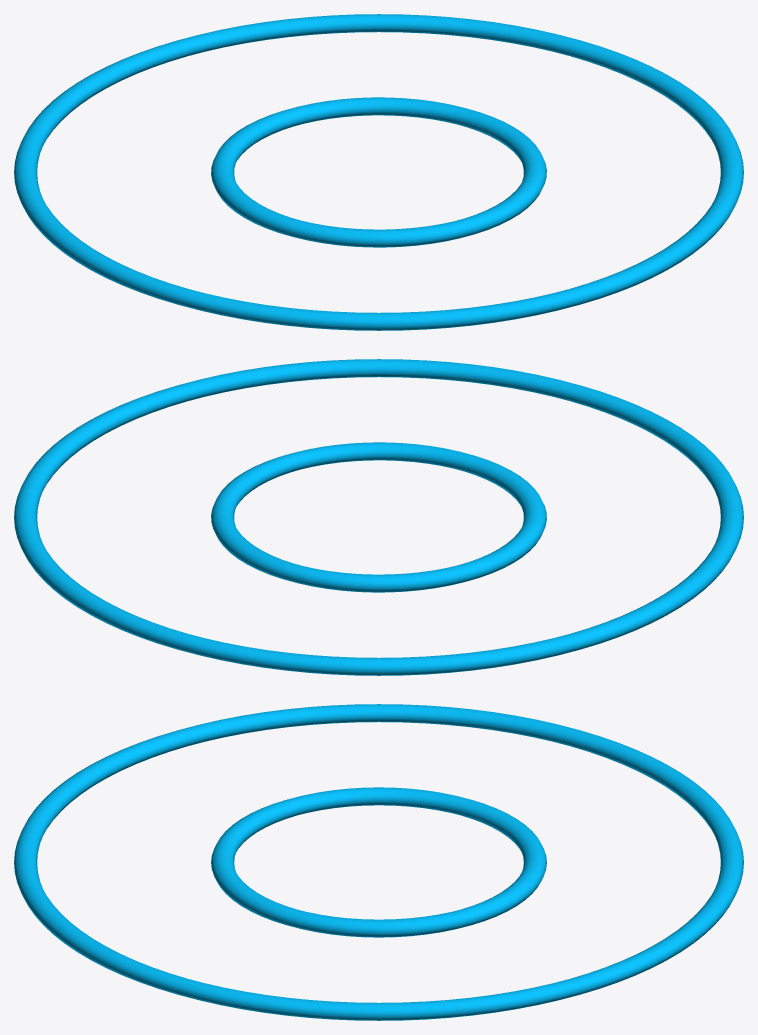
File: FG_PadRingCyan.obj
3 renders of one model, top to bottom at view 1: azimuth 30°, elevation 25°; view 2: azimuth 150°, elevation 25°; view 3: azimuth 270°, elevation 25°, orthographic.
Visible parts, largest first — view 1: FG_PadRingCyan; view 2: FG_PadRingCyan; view 3: FG_PadRingCyan.
Part boxes in pixels (left/top/right/bottom): FG_PadRingCyan: left=14, top=14, right=743, bottom=330; FG_PadRingCyan: left=14, top=359, right=743, bottom=675; FG_PadRingCyan: left=14, top=704, right=743, bottom=1020.
Bounding box in the file's own units: 12.6 × 0.2853 × 12.6.
